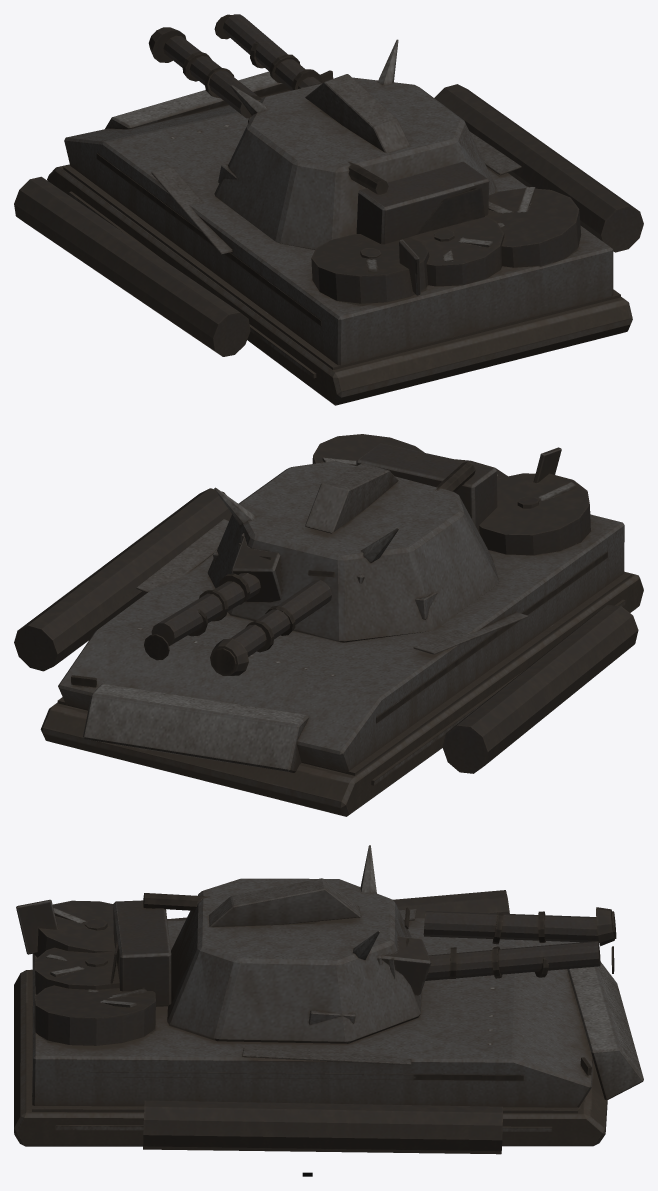
The model's file is chs_typhon_wreck.fbx.
The picture shows the model from 3 angles, top to bottom: view 1: azimuth 30°, elevation 25°; view 2: azimuth 150°, elevation 25°; view 3: azimuth 270°, elevation 25°; orthographic projection. The views are drawn at different scales.
Visible parts, largest first — view 1: base_bar, turret_bar, barrel_bar; view 2: base_bar, turret_bar, barrel_bar; view 3: base_bar, turret_bar, barrel_bar.
Boxes of the visible parts, x1,y1,x2,y2 form: base_bar: (14, 70, 643, 405); turret_bar: (214, 39, 496, 249); barrel_bar: (148, 14, 322, 123); base_bar: (14, 434, 643, 816); turret_bar: (207, 443, 499, 642); barrel_bar: (144, 533, 364, 675); base_bar: (14, 890, 643, 1154); turret_bar: (110, 845, 421, 1043); barrel_bar: (377, 907, 616, 995).
Bounding box in the file's own units: 1080 × 632 × 1250.
Materials: 2 (2 with a texture image).
